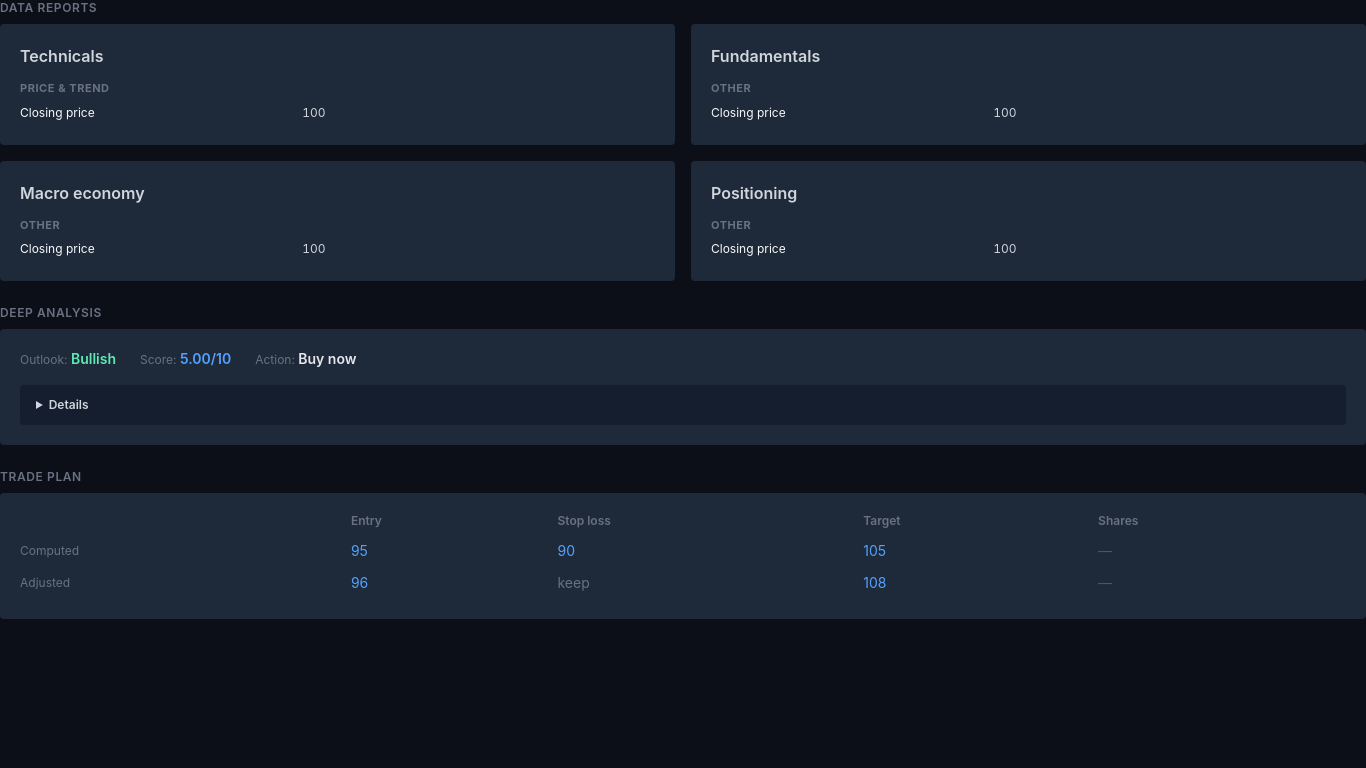
Test: AltResult › clicking a computed level opens its formula with every number linked to a source
Click the button with test id "alt-level-computed-stop_loss" at (566, 551), box x1=558 y1=541 x2=575 y2=561
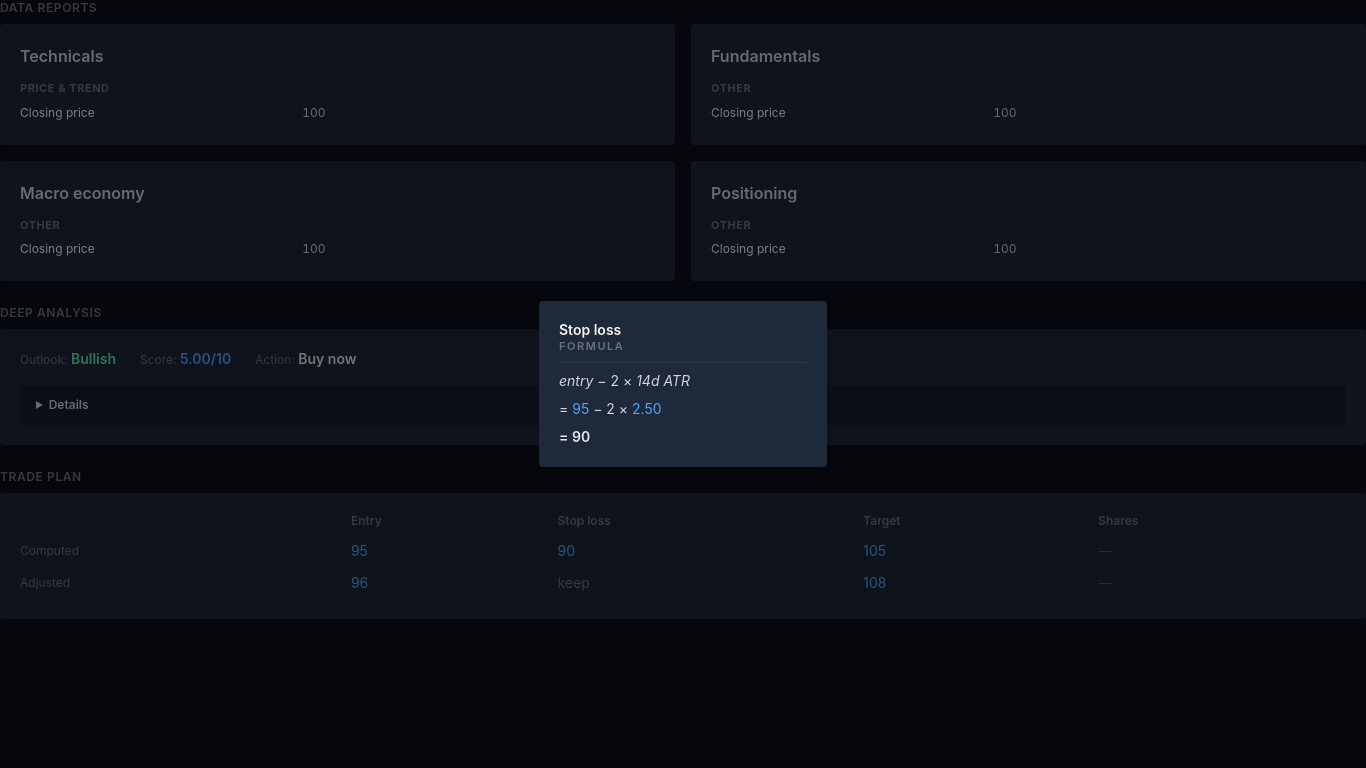
expect the heading reads "Stop loss formula": met, box x1=559 y1=321 x2=624 y2=353
expect the element with test id "alt-formula-words" reads "entry − 2 × 14d ATR": met, box x1=559 y1=372 x2=690 y2=389
expect the button named "entry" reads "95": met, box x1=572 y1=399 x2=589 y2=419
